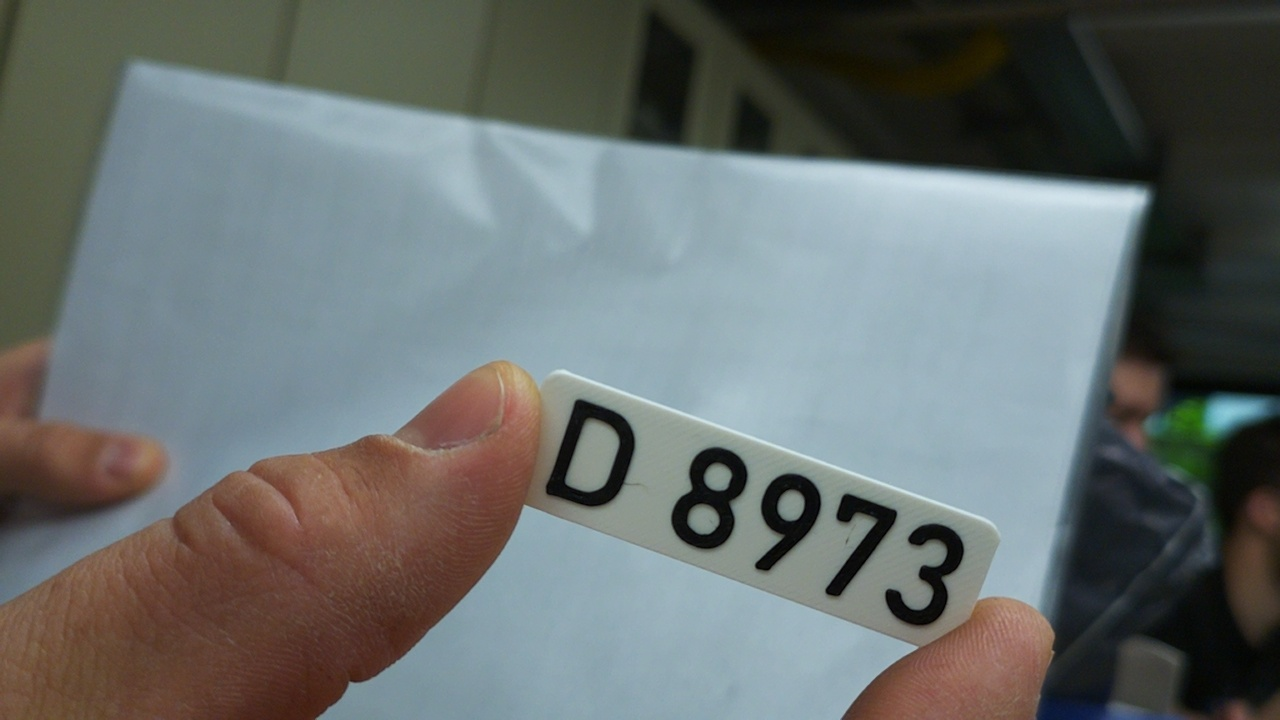license_plate: (517, 365, 1003, 654)
